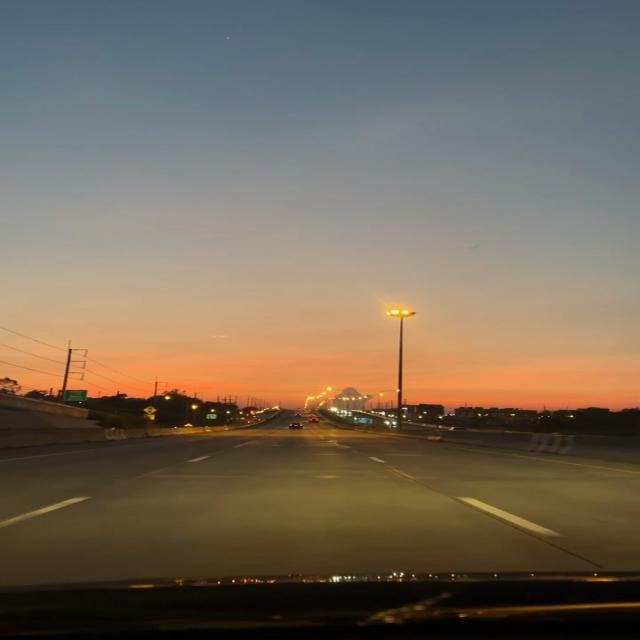Poth-hole: (18, 458, 586, 567)
